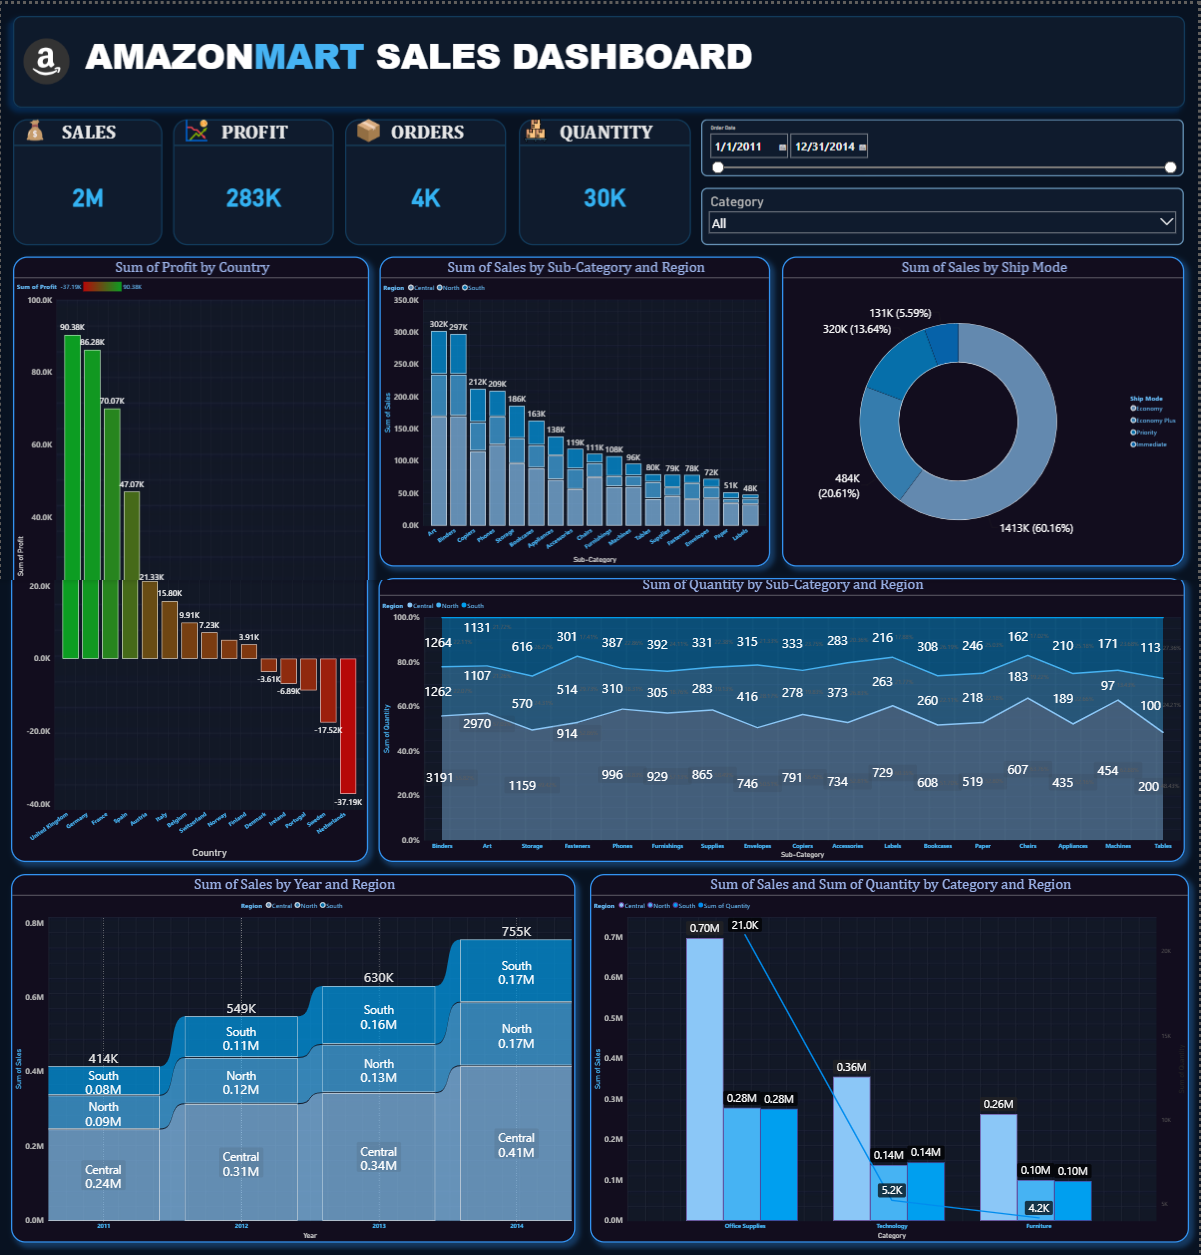

Layout of this report page (visuals, bound fields, positions):
{"tool":"powerbi","page":{"name":"Page 1","canvas":[2500,2625],"ordinal":0},"visuals":[{"type":"columnChart","fields":{"Y":["Sum(Amazon Mart.Sales)"],"Category":["Amazon Mart.Sub-Category"],"Series":["Amazon Mart.Region"]},"box":[792,528,816,648],"z":0},{"type":"hundredPercentStackedAreaChart","fields":{"Category":["Amazon Mart.Sub-Category"],"Y":["Sum(Amazon Mart.Quantity)"],"Series":["Amazon Mart.Region"]},"box":[792,1200,1680,600],"z":1000},{"type":"lineClusteredColumnComboChart","fields":{"Category":["Amazon Mart.Category"],"Y":["Sum(Amazon Mart.Sales)"],"Series":["Amazon Mart.Region"],"Y2":["Sum(Amazon Mart.Quantity)"]},"box":[1232,1824,1248,768],"z":2000},{"type":"ribbonChart","fields":{"Category":["Amazon Mart.Order Date.Variation.Date Hierarchy.Year","Amazon Mart.Order Date.Variation.Date Hierarchy.Month","Amazon Mart.Order Date.Variation.Date Hierarchy.Day"],"Y":["Sum(Amazon Mart.Sales)"],"Series":["Amazon Mart.Region"]},"box":[24,1824,1176,768],"z":3000},{"type":"textbox","box":[24,24,2448,192],"z":4000},{"type":"donutChart","fields":{"Y":["Sum(Amazon Mart.Sales)"],"Category":["Amazon Mart.Ship Mode"]},"box":[1632,528,840,648],"z":5000},{"type":"columnChart","fields":{"Y":["Sum(Amazon Mart.Profit)"],"Category":["Amazon Mart.Country"]},"box":[24,528,744,1272],"z":8000},{"type":"card","title":"PROFIT","fields":{"Values":["Sum(Amazon Mart.Profit)"]},"box":[360,240,336,264],"z":9000},{"type":"card","title":"ORDERS","fields":{"Values":["Amazon Mart.TotaL Orders"]},"box":[720,240,336,264],"z":10000},{"type":"card","title":"SALES","fields":{"Values":["Sum(Sales Growth.Sales)"]},"box":[24,240,312,264],"z":11000},{"type":"image","box":[384,240,48,48],"z":12000},{"type":"image","box":[744,240,48,48],"z":13000},{"type":"image","box":[48,216,48,96],"z":14000},{"type":"slicer","fields":{"Values":["Amazon Mart.Order Date"]},"box":[1464,240,1008,120],"z":15000},{"type":"image","box":[48,72,96,96],"z":16000},{"type":"card","title":"QUANTITY","fields":{"Values":["Sum(Amazon Mart.Quantity)"]},"box":[1080,240,360,264],"z":17000},{"type":"image","box":[1056,240,120,48],"z":18000},{"type":"slicer","fields":{"Values":["Amazon Mart.Category"]},"box":[1464,384,1008,120],"z":19000}]}

Visuals, with their boxes in screenshot pixels (x1, y1, x2, y2), scaled from the page's 2500x2625 canvas onto the 1201x1255 screenshot:
columnChart - Sum(Amazon Mart.Sales) x Amazon Mart.Sub-Category: 380, 252, 772, 562
hundredPercentStackedAreaChart - Amazon Mart.Sub-Category x Sum(Amazon Mart.Quantity): 380, 574, 1188, 861
lineClusteredColumnComboChart - Amazon Mart.Category x Sum(Amazon Mart.Sales): 592, 872, 1191, 1239
ribbonChart - Amazon Mart.Order Date.Variation.Date Hierarchy.Year x Amazon Mart.Order Date.Variation.Date Hierarchy.Month: 12, 872, 576, 1239
textbox: 12, 11, 1188, 103
donutChart - Sum(Amazon Mart.Sales) x Amazon Mart.Ship Mode: 784, 252, 1188, 562
columnChart - Sum(Amazon Mart.Profit) x Amazon Mart.Country: 12, 252, 369, 861
"PROFIT" card: 173, 115, 334, 241
"ORDERS" card: 346, 115, 507, 241
"SALES" card: 12, 115, 161, 241
image: 184, 115, 208, 138
image: 357, 115, 380, 138
image: 23, 103, 46, 149
slicer - Amazon Mart.Order Date: 703, 115, 1188, 172
image: 23, 34, 69, 80
"QUANTITY" card: 519, 115, 692, 241
image: 507, 115, 565, 138
slicer - Amazon Mart.Category: 703, 184, 1188, 241
